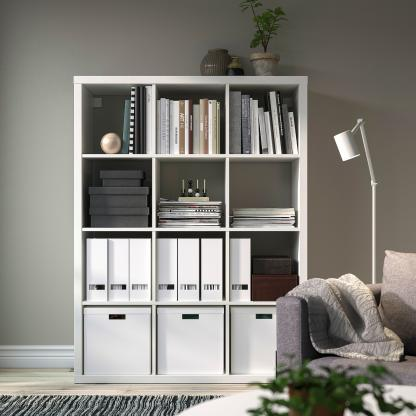lamp: (73, 74, 310, 385)
